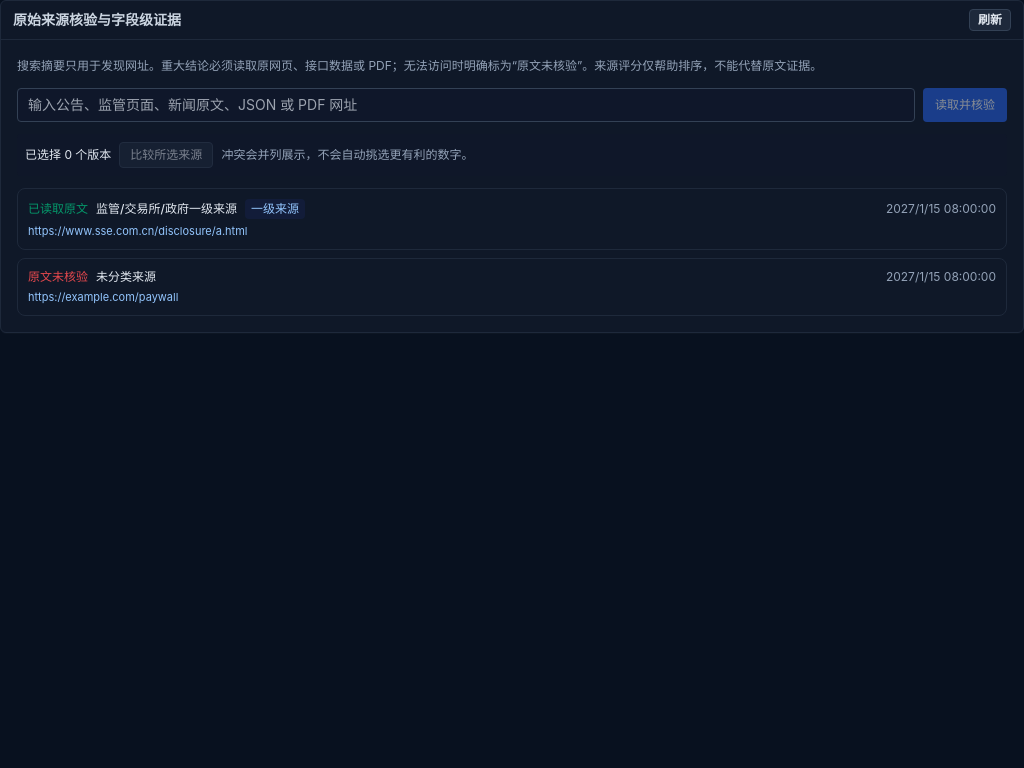
Scenario: SourceEvidenceWorkbench › keeps unverified failures explicit and drills verified facts to exact evidence
The image size is (1024, 768).
Expected: the text "原始来源核验与字段级证据" is shown, [13,10,181,30]
Expected: the field with placeholder "输入公告、监管页面、新闻原文、JSON 或 PDF 网址" is shown, [17,88,915,122]
Click the text "监管/交易所/政府一级来源": (166, 208) [96,200,237,216]
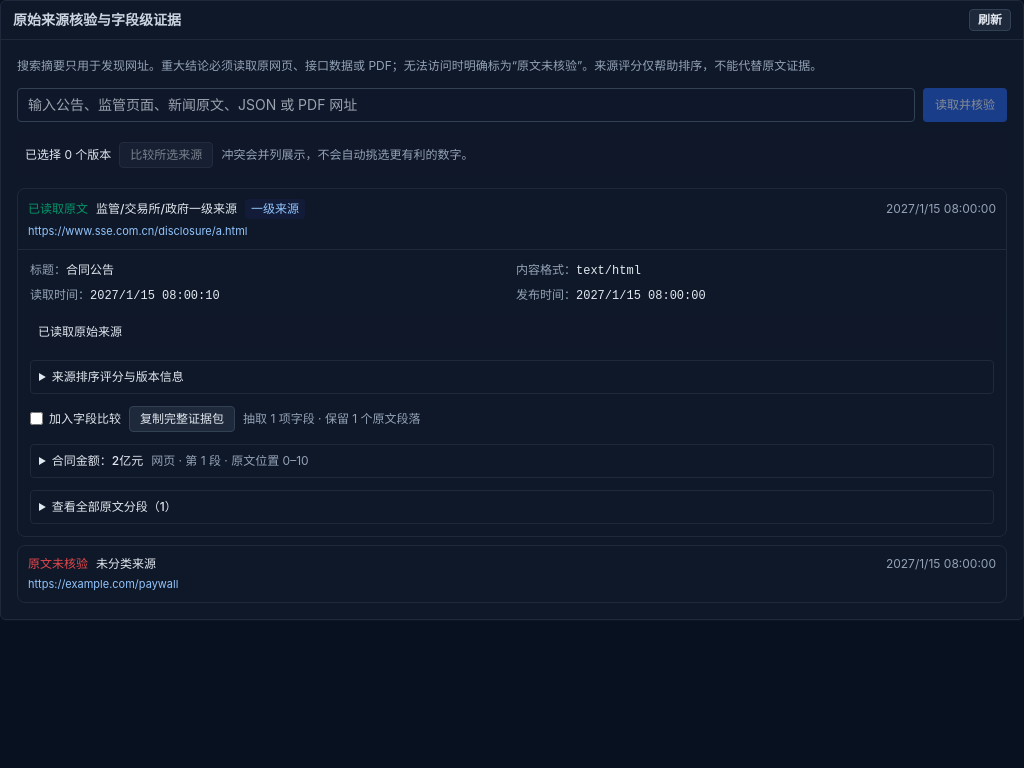
Expected: the text "合同金额：2亿元" is shown, [52,452,143,468]
Expected: the text "网页 · 第 1 段 · 原文位置 0–10" is shown, [151,452,309,468]
